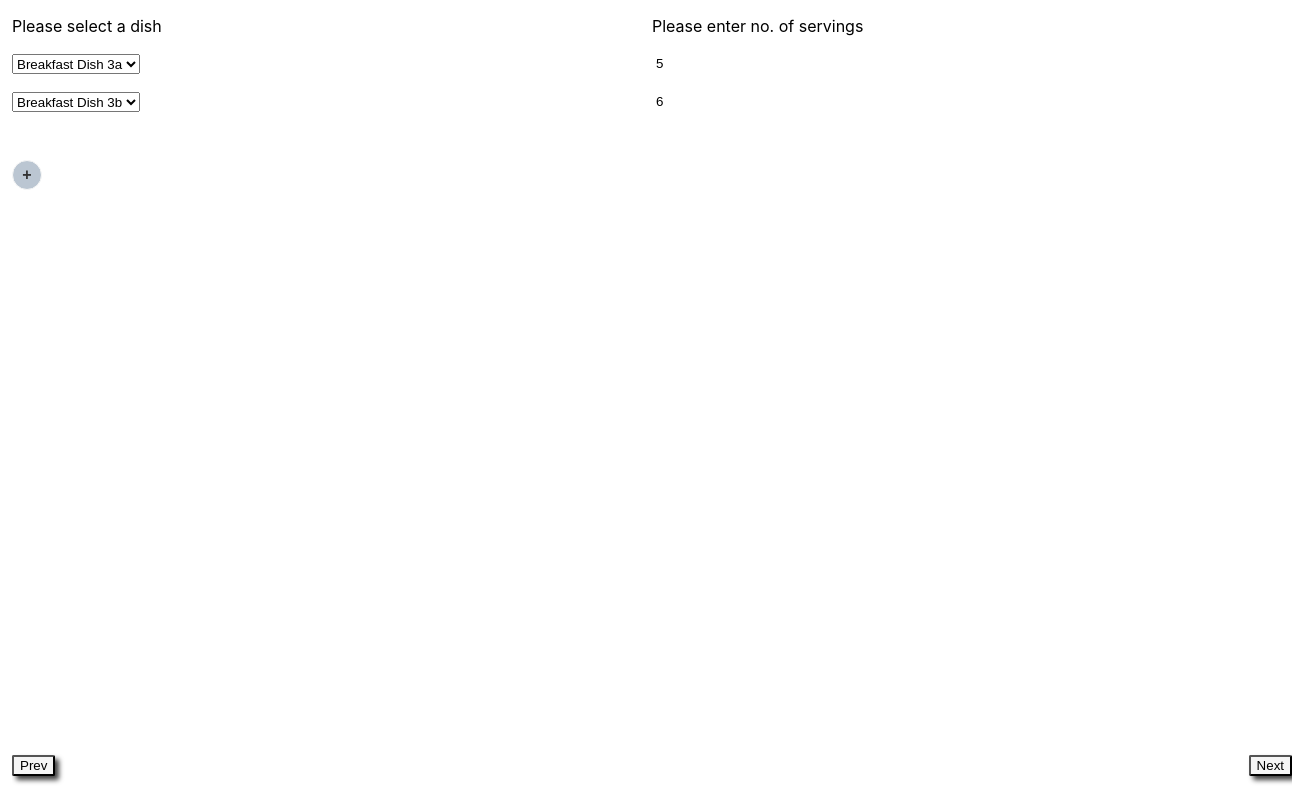
it: going to next page › should not have more than ten total dishes
This screenshot has width=1304, height=800.
Click the button "Next": (1270, 766) [1249,755,1292,776]
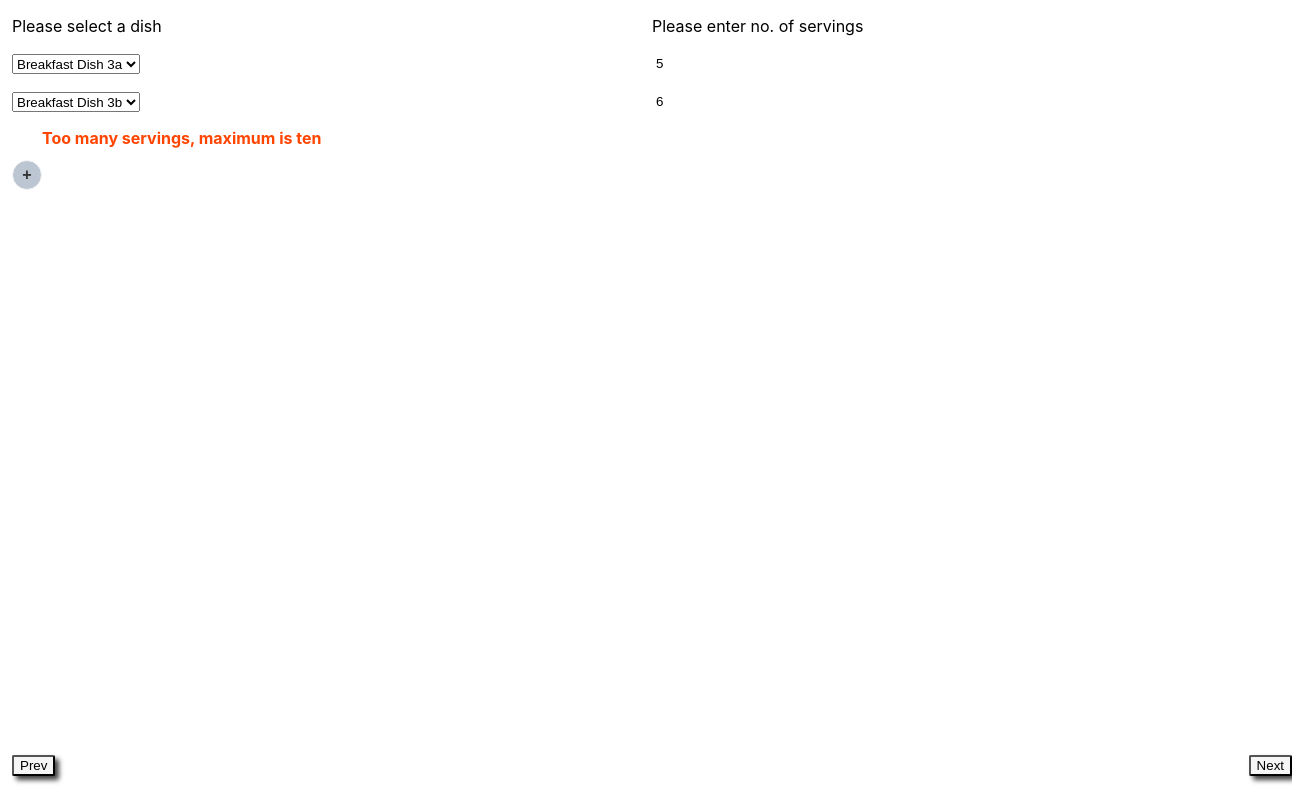
Check: the text "Too many servings, maximum is ten" is shown, box [42,128,322,148]
